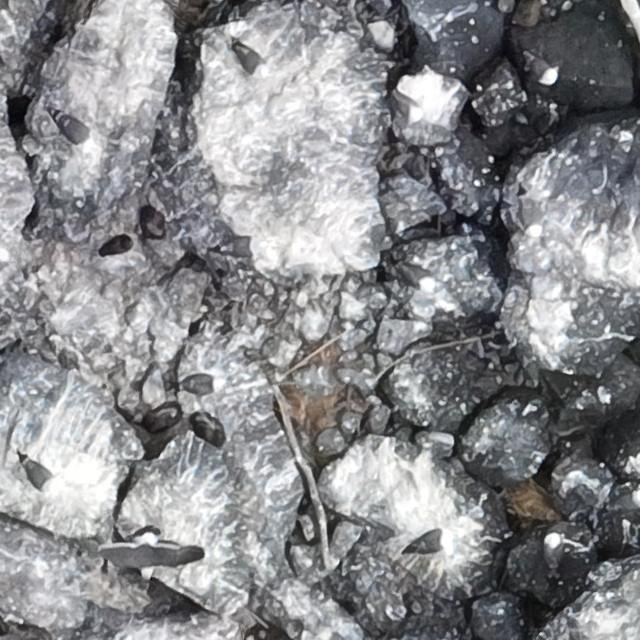F: (107, 528, 194, 580)
umineko: (53, 110, 91, 153), (519, 50, 561, 86), (233, 39, 267, 79), (402, 529, 454, 555), (24, 456, 57, 496), (394, 88, 426, 122), (399, 264, 436, 292), (522, 188, 542, 237), (184, 374, 226, 396), (544, 533, 561, 577)
